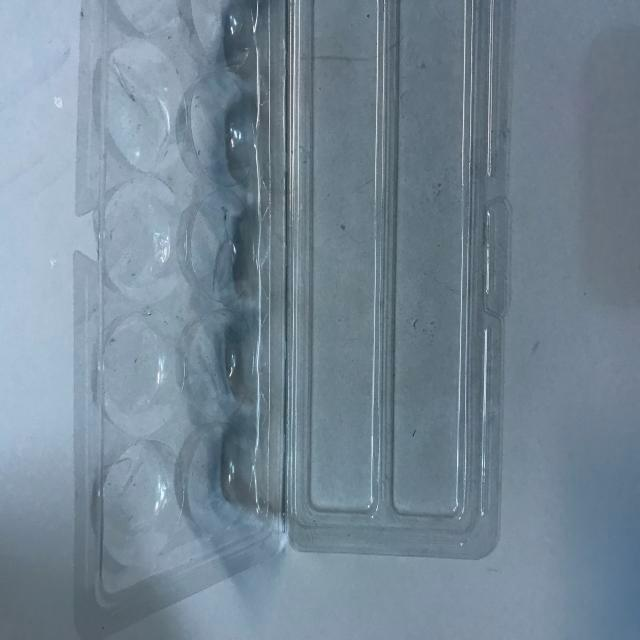plastic: (57, 0, 514, 640)
